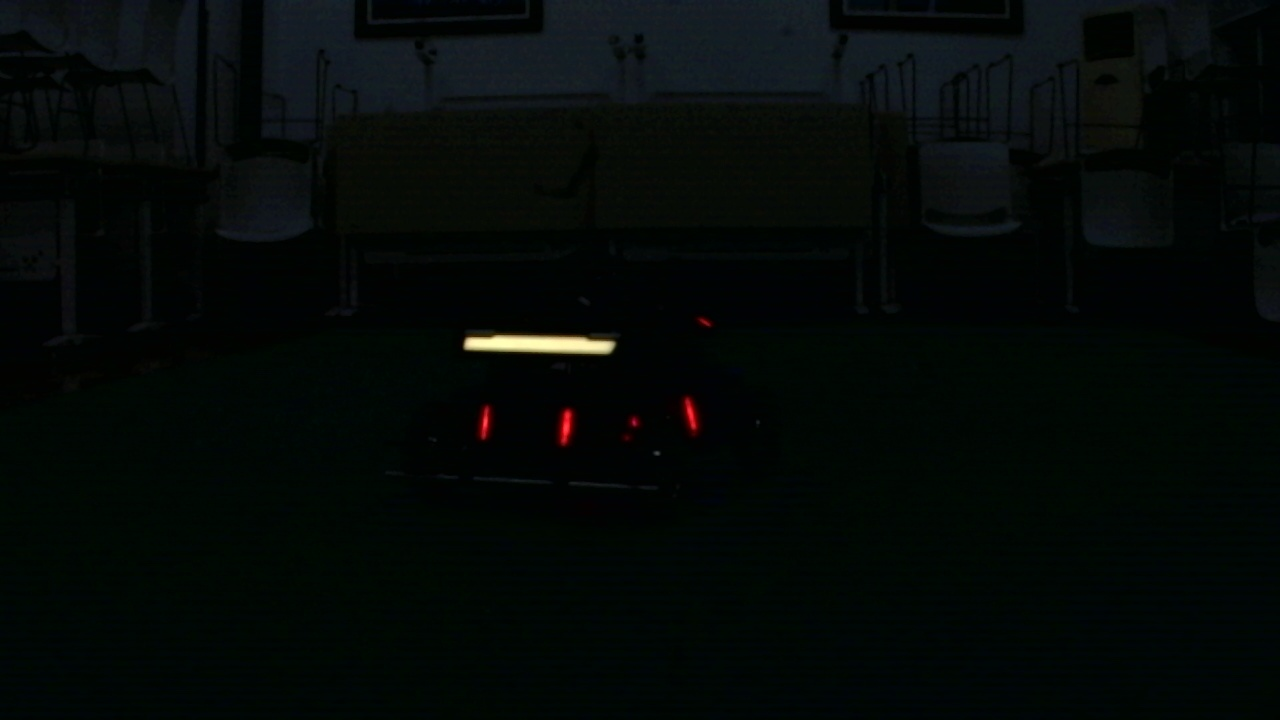lamp: (682, 393, 700, 431), (478, 405, 488, 443), (562, 412, 572, 446)
pair1: (480, 409, 570, 444)
